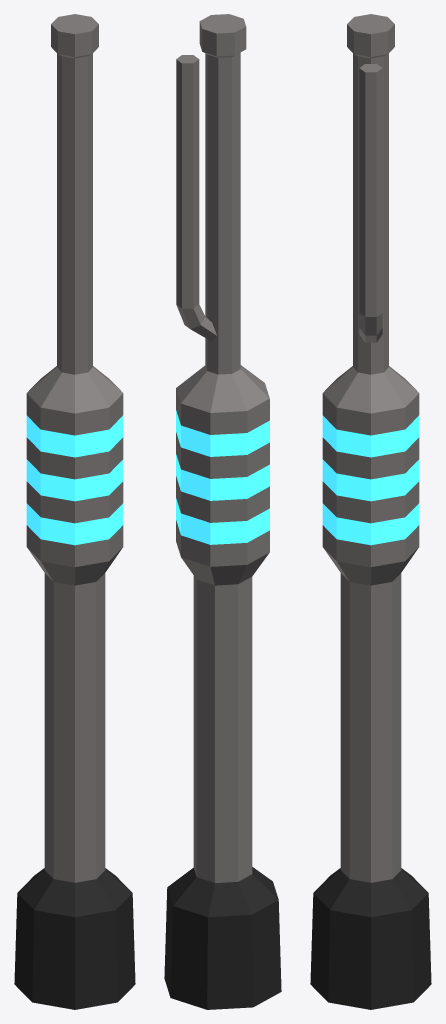
The model's file is scifi_scifi-pole-light.fbx.
3 views of the same model, side by side, from view 1: azimuth 90°, elevation 25°; view 2: azimuth 210°, elevation 25°; view 3: azimuth 270°, elevation 25° (orthographic).
Visible parts, largest first — view 1: scifi_scifi_pole_light; view 2: scifi_scifi_pole_light; view 3: scifi_scifi_pole_light.
Part boxes in pixels (x1,y1,x2,y2): scifi_scifi_pole_light: (14, 14, 135, 1009); scifi_scifi_pole_light: (164, 14, 281, 1009); scifi_scifi_pole_light: (310, 14, 431, 1009).
Size of the model in its own units: 22.86 by 200 by 22.86.
